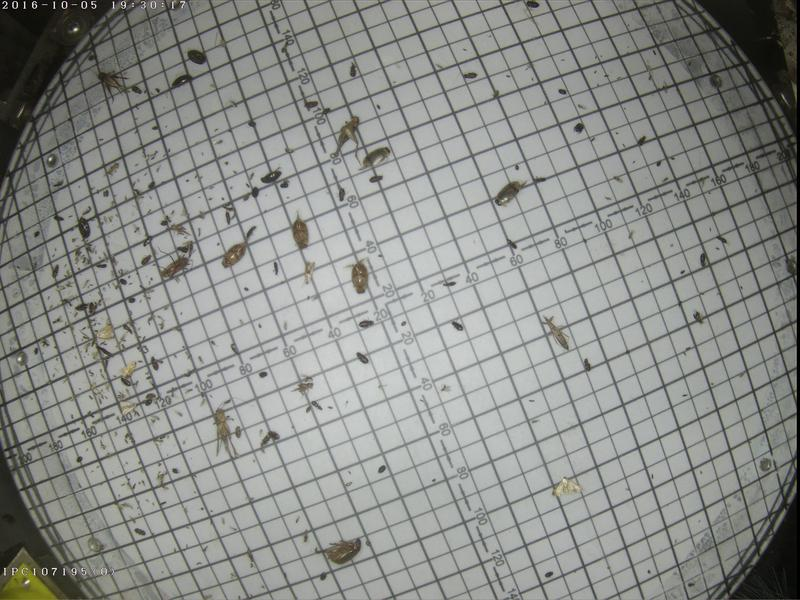Rice Leaf Roller: (550, 474, 581, 499), (90, 321, 115, 340), (115, 359, 136, 376)
